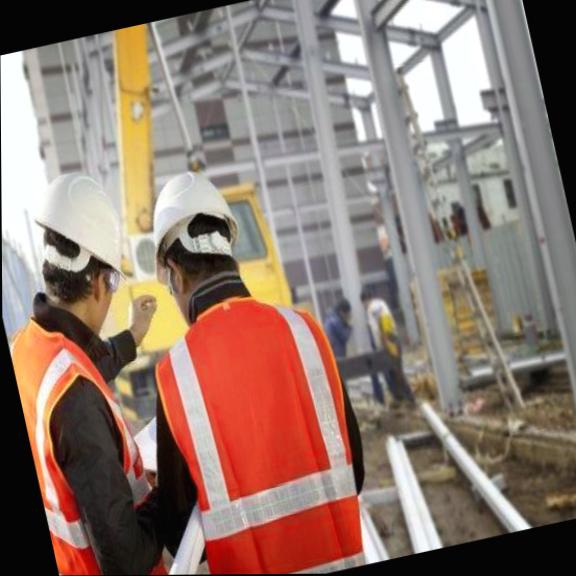safety_vest: (145, 281, 383, 575), (7, 304, 181, 576)
